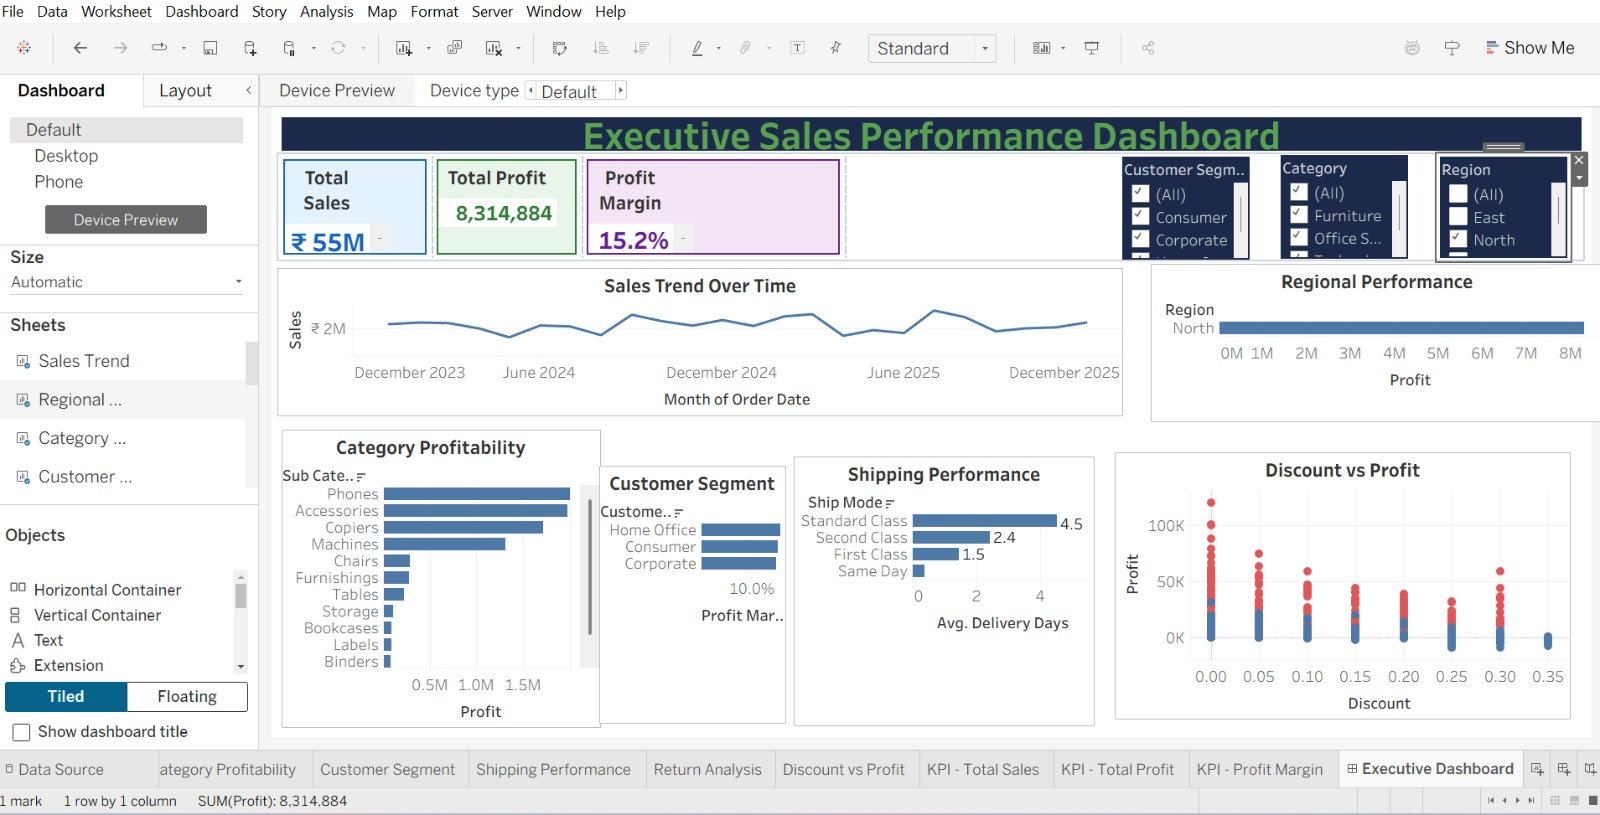

The page's visual inventory and layout, read from the dashboard file:
{"tool":"tableau","page":{"name":"Executive Dashboard","canvas":[1000,1000],"units":"permille","ordinal":0},"visuals":[{"type":"title","box":[5.1,10.6,989.8,63.8]},{"type":"filter","title":"Category Profitability","param":"[federated.1fvjzx91kkku3y11qjkhv1xtdsno].[none:category:nk]","box":[761.9,70.5,101.6,175.5]},{"type":"filter","title":"Customer Segment","param":"[federated.1fvjzx91kkku3y11qjkhv1xtdsno].[none:customer_segment:nk]","box":[641.9,73.1,101.6,174.2]},{"type":"filter","title":"Regional Performance","param":"[federated.1fvjzx91kkku3y11qjkhv1xtdsno].[none:region:nk]","box":[882.5,73.1,101.6,171.5]},{"type":"worksheet","title":"KPI - Total Sales","mark":"Automatic","box":[5.1,74.5,116.2,167.6]},{"type":"worksheet","title":"KPI - Total Profit","mark":"Automatic","box":[121.3,74.5,113.7,167.6]},{"type":"worksheet","title":"KPI - Profit Margin","mark":"Automatic","box":[234.9,74.5,199.4,167.6]},{"type":"worksheet","title":"Sales Trend","mark":"Area","rows":["sales"],"cols":["order_date"],"box":[2,250,645.5,246]},{"type":"worksheet","title":"Category Profitability","mark":"Bar","rows":["sub_category"],"cols":["profit"],"box":[5.3,506.7,247.2,484]},{"type":"worksheet","title":"Discount vs Profit","mark":"Circle","rows":["profit"],"cols":["discount"],"box":[636.2,542.5,350.6,434.8]},{"type":"worksheet","title":"Shipping Performance","mark":"Automatic","rows":["ship_mode"],"cols":["delivery_days"],"box":[393,549.2,233.3,438.8]},{"type":"worksheet","title":"Customer Segment","mark":"Bar","rows":["customer_segment"],"cols":["Calculation_3604491425931264"],"box":[245.9,563.8,146.5,420.2]}]}

Visuals, with their boxes on the dashboard's canvas, which has no fixed pixel size, in thousandths of its width and height (x1, y1, x2, y2). These are canvas units, not pixel positions in the 1600x815 screenshot, which may show the page scaled, cropped or inside an application window:
title: (5,11,995,74)
"Category Profitability" filter: (762,70,864,246)
"Customer Segment" filter: (642,73,744,247)
"Regional Performance" filter: (882,73,984,245)
"KPI - Total Sales" worksheet: (5,74,121,242)
"KPI - Total Profit" worksheet: (121,74,235,242)
"KPI - Profit Margin" worksheet: (235,74,434,242)
"Sales Trend" worksheet (Area marks): (2,250,648,496)
"Category Profitability" worksheet (Bar marks): (5,507,252,991)
"Discount vs Profit" worksheet (Circle marks): (636,542,987,977)
"Shipping Performance" worksheet: (393,549,626,988)
"Customer Segment" worksheet (Bar marks): (246,564,392,984)
